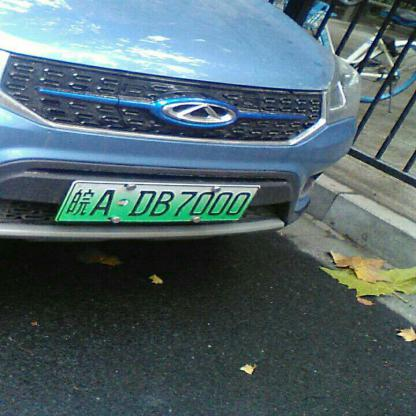lp: (56, 181, 75, 221)
